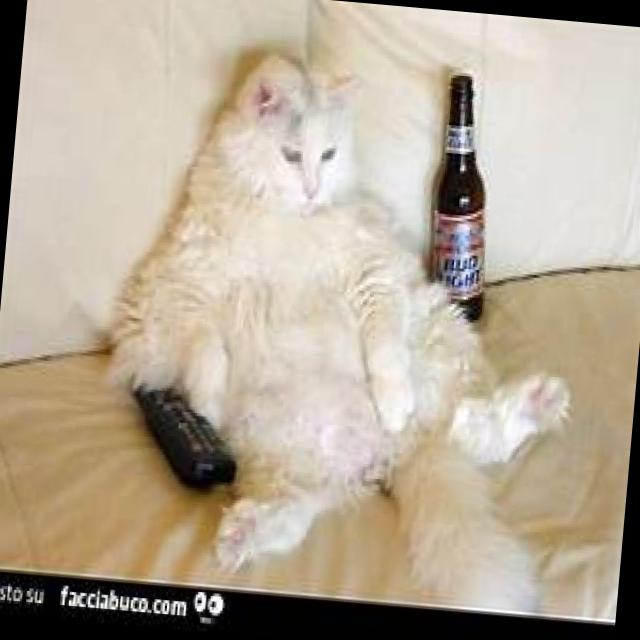cat: (84, 36, 600, 614)
